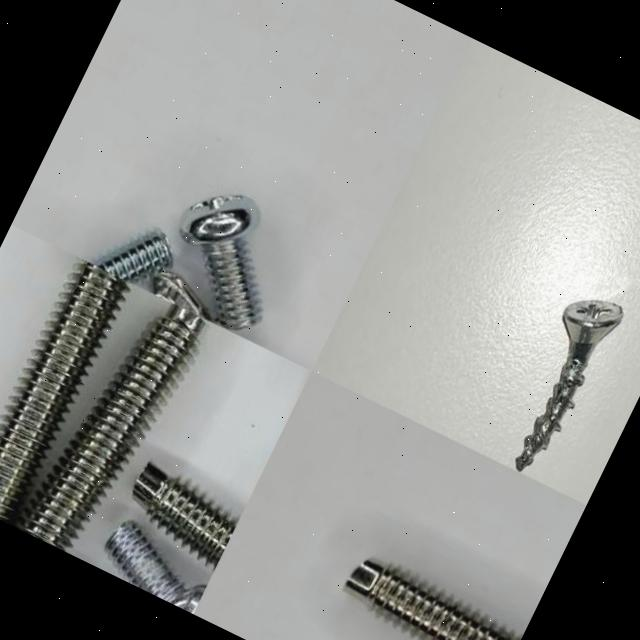Screw: (17, 303, 203, 551), (0, 258, 129, 525), (515, 299, 623, 471), (345, 559, 521, 640), (131, 462, 238, 567), (179, 195, 261, 328), (104, 521, 206, 614), (91, 229, 171, 283)
